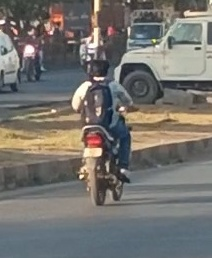BikeWithRider: (67, 55, 140, 208)
NoHelmet: (83, 56, 113, 85)
